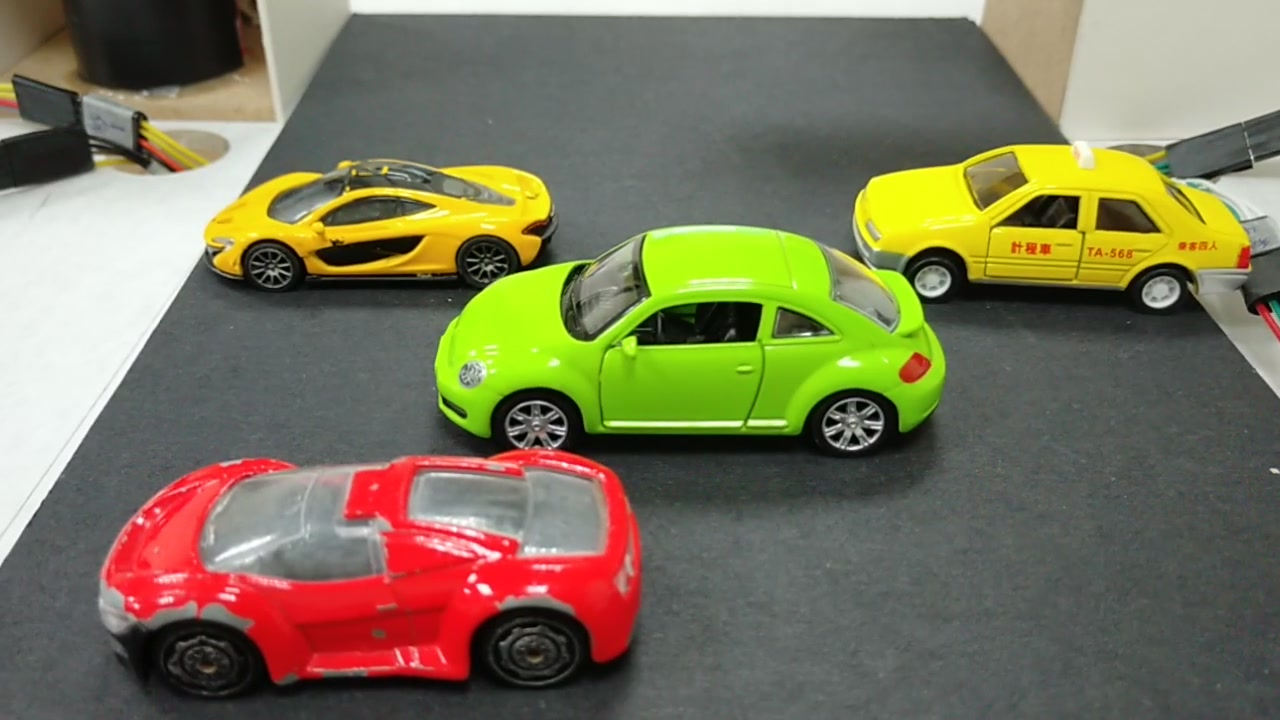car: (89, 464, 640, 677), (457, 235, 943, 451), (864, 137, 1257, 311), (197, 158, 562, 286)
